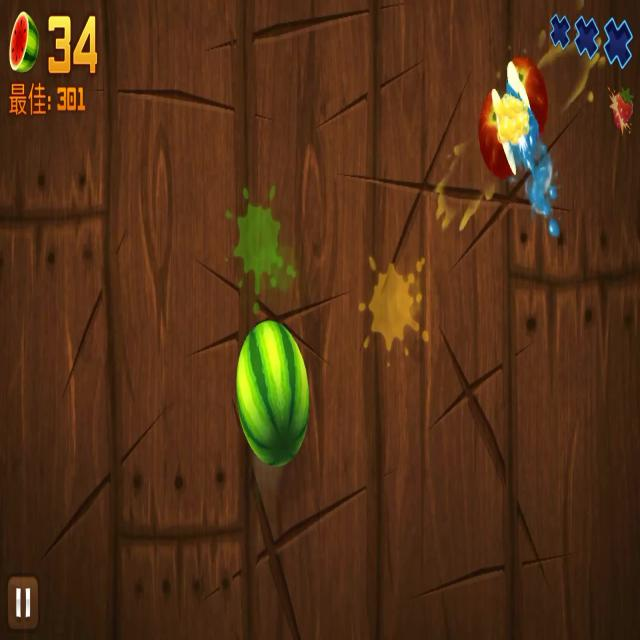fruit: (236, 323, 309, 463), (479, 87, 517, 187), (508, 58, 546, 148)
